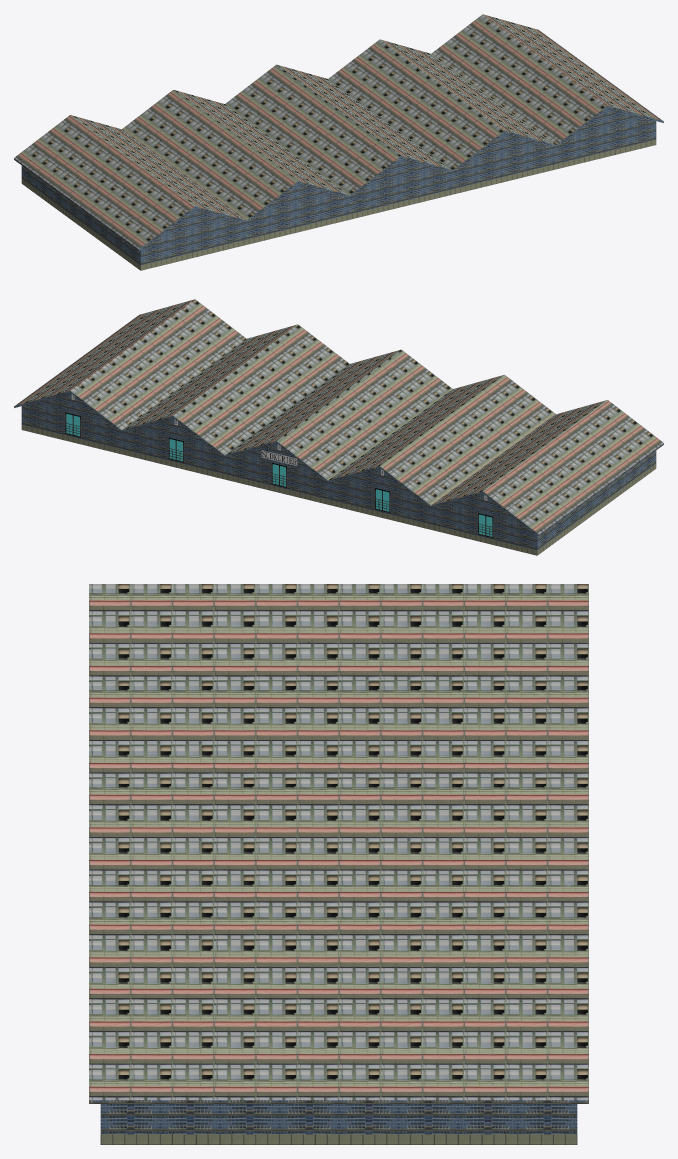
Rendered from KoPf_Suedkurier_lod2.dae.
3 renders of one model, top to bottom at view 1: azimuth 30°, elevation 25°; view 2: azimuth 150°, elevation 25°; view 3: azimuth 270°, elevation 25°, orthographic. The views are drawn at different scales.
Visible parts, largest first — view 1: SketchUp (×3); view 2: SketchUp (×3); view 3: SketchUp (×3).
Part boxes in pixels (left/top/right/bottom): SketchUp (×3): left=14, top=14, right=663, bottom=270; SketchUp (×3): left=14, top=299, right=663, bottom=555; SketchUp (×3): left=89, top=584, right=588, bottom=1144.
Size of the model in its own units: 4007 by 1654 by 394.
